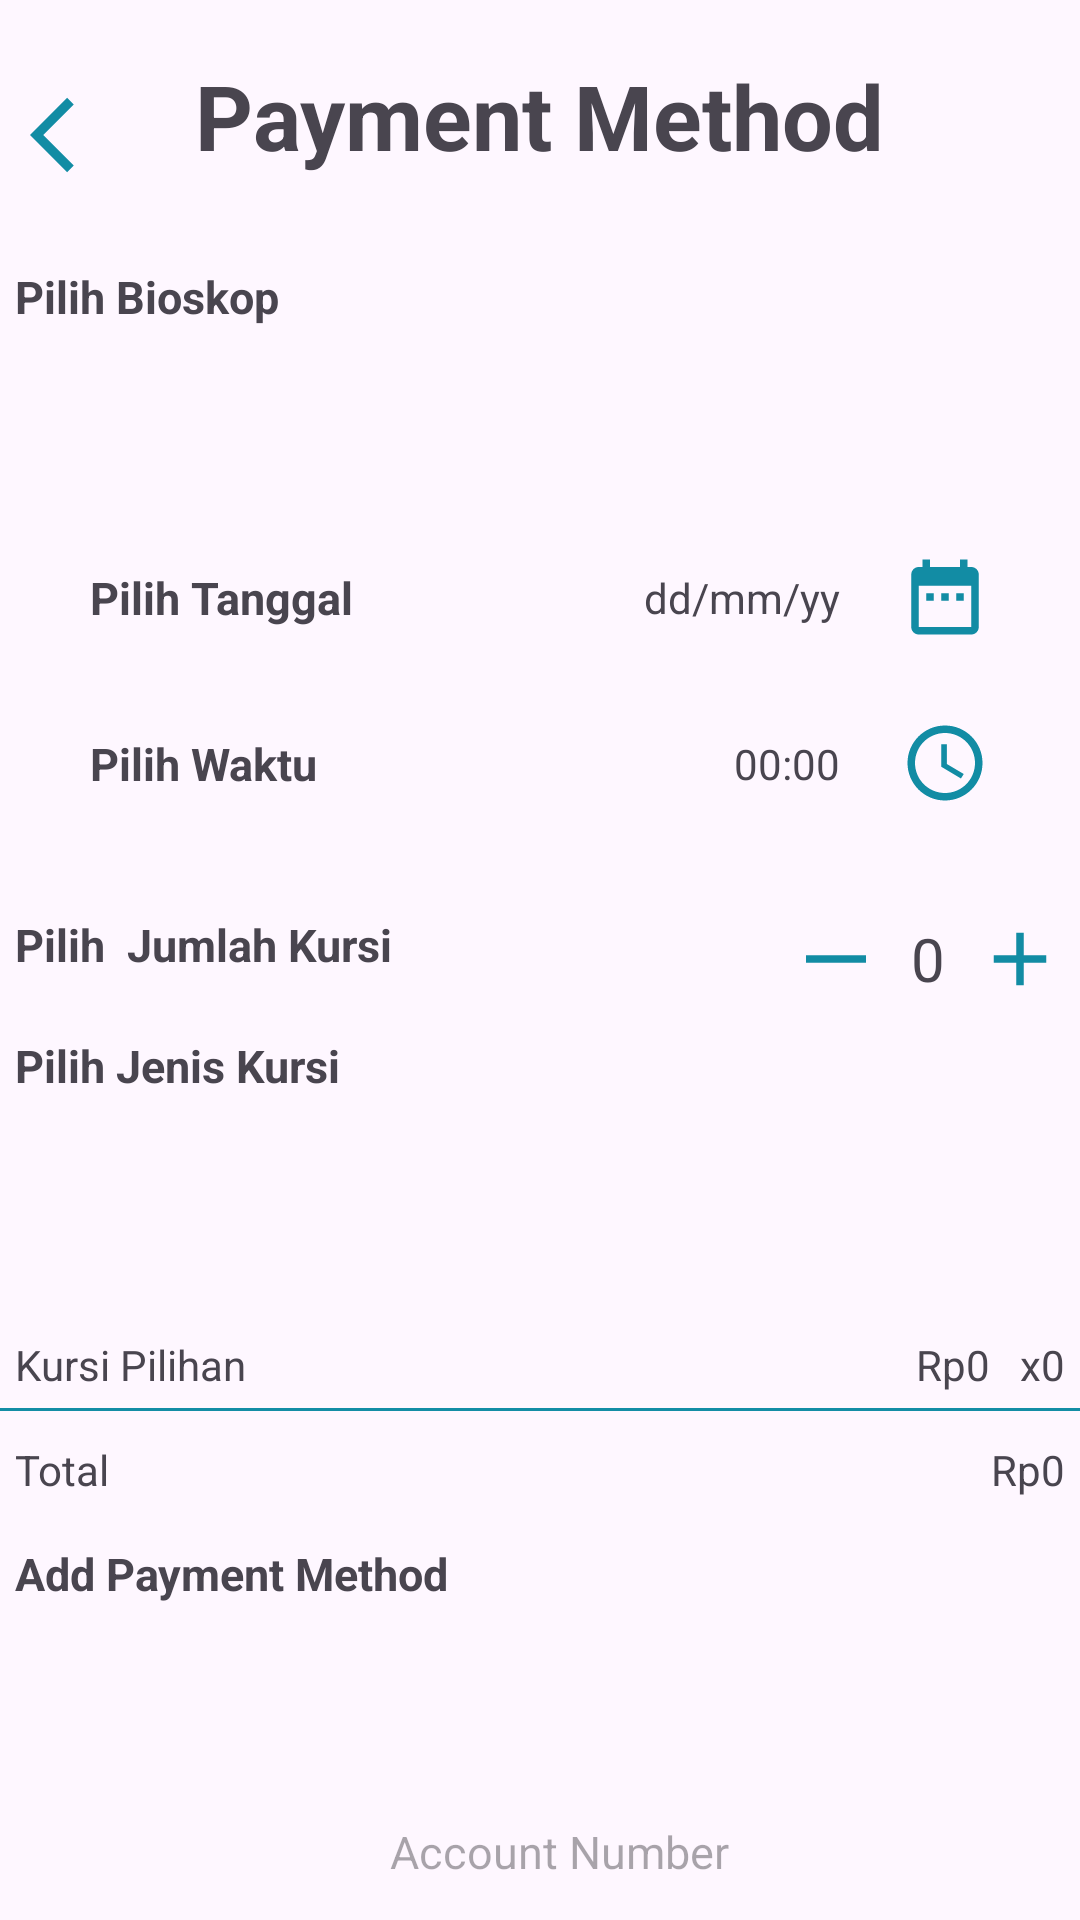

Icon click points for this 1080 × 1920 phone screenshot, format [x,y]:
access time: [945,763]
add: [1020,959]
arrow back: [52,135]
date range: [945,597]
